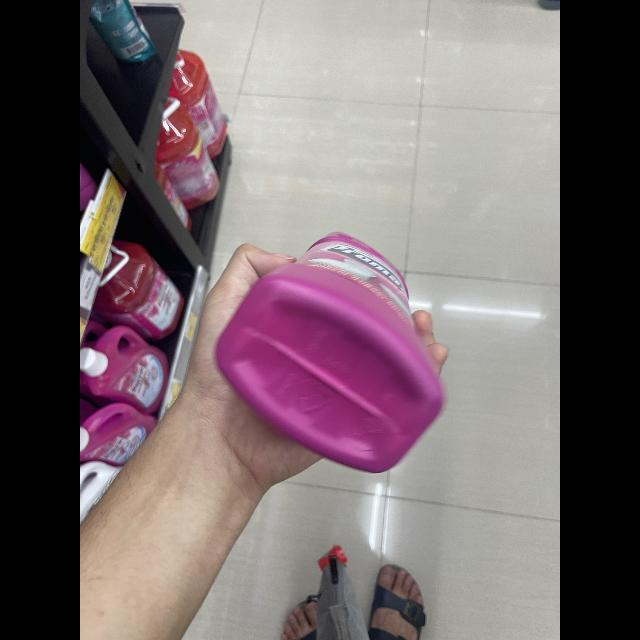chemical_plastic_bottle: (214, 226, 448, 474)
